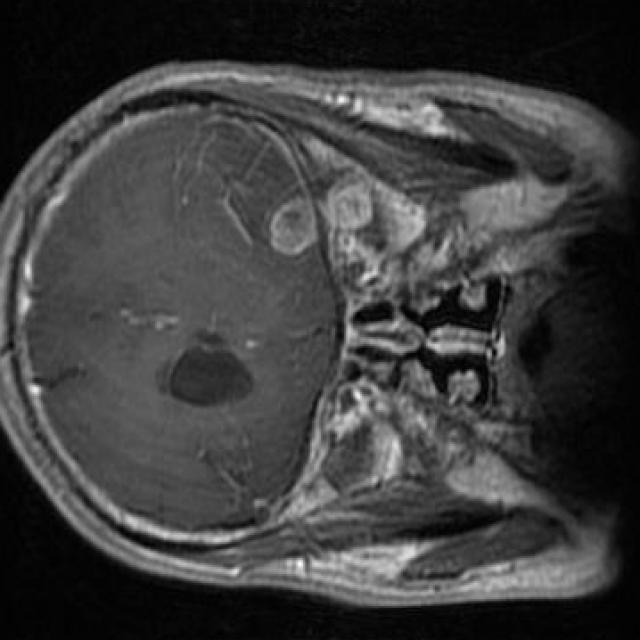glioma: (266, 171, 373, 258)
